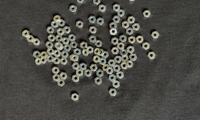nut: (152, 31, 160, 39), (148, 52, 156, 60), (143, 42, 151, 50), (128, 16, 136, 24), (127, 46, 135, 54), (110, 28, 118, 36), (114, 56, 122, 64), (117, 71, 125, 79), (109, 74, 117, 82), (89, 26, 97, 34), (72, 75, 80, 83), (70, 41, 78, 49), (64, 44, 72, 52), (52, 67, 60, 75), (57, 28, 65, 36), (46, 55, 54, 63), (33, 51, 41, 59), (35, 58, 43, 66), (33, 38, 41, 46), (27, 35, 35, 43), (22, 30, 30, 38), (72, 93, 79, 102), (144, 10, 151, 18), (136, 36, 144, 43), (133, 23, 140, 31), (129, 36, 136, 44), (123, 21, 130, 29), (130, 54, 138, 61), (126, 61, 134, 68), (120, 35, 127, 43), (121, 49, 128, 57), (118, 9, 125, 17), (113, 4, 120, 12), (113, 16, 121, 23), (113, 65, 121, 72), (109, 89, 117, 96), (107, 67, 114, 75), (108, 60, 116, 67), (103, 64, 110, 72), (100, 58, 107, 66), (102, 51, 109, 59), (97, 70, 104, 78), (95, 77, 102, 85), (98, 49, 105, 57), (90, 65, 98, 72), (95, 40, 103, 47), (89, 36, 97, 43), (99, 4, 106, 12), (87, 46, 94, 54), (82, 49, 90, 56), (80, 63, 87, 71), (70, 5, 77, 13), (77, 69, 84, 77), (72, 63, 80, 70), (74, 48, 81, 56), (72, 54, 79, 62), (69, 34, 76, 42), (64, 26, 71, 34), (62, 38, 70, 45), (61, 51, 69, 58), (60, 58, 68, 65), (60, 73, 68, 80), (58, 79, 65, 87), (54, 15, 61, 23), (47, 27, 55, 34), (55, 42, 63, 49), (48, 35, 56, 42), (53, 57, 60, 65), (46, 42, 54, 49), (127, 28, 134, 35), (118, 43, 125, 50), (121, 63, 128, 70), (110, 22, 117, 29), (112, 38, 119, 45), (112, 48, 119, 55), (113, 81, 120, 88), (94, 56, 101, 63), (85, 70, 92, 77), (97, 18, 104, 25), (89, 16, 96, 23), (81, 42, 88, 49), (77, 21, 84, 28), (70, 54, 77, 61), (53, 75, 60, 82), (56, 35, 63, 42), (51, 21, 58, 28), (57, 44, 64, 51), (54, 50, 61, 57), (47, 48, 54, 55), (41, 52, 48, 59), (59, 19, 65, 27), (122, 56, 129, 62), (95, 48, 101, 55), (93, 0, 101, 5), (41, 58, 47, 64), (77, 0, 84, 4), (128, 0, 136, 2)
